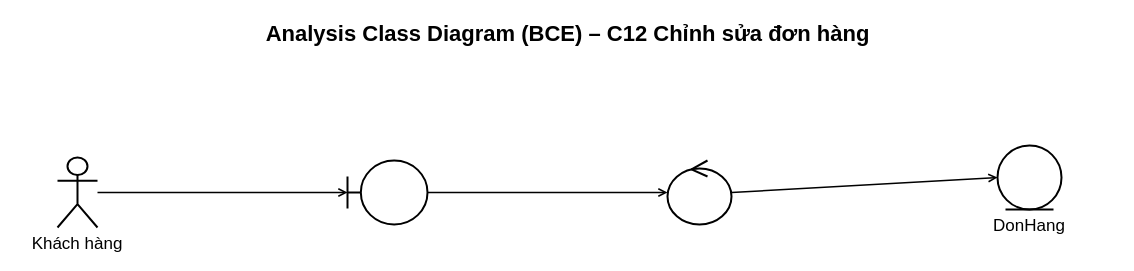
This 1134x271 diagram has some shape labels left out. The centre of each missing label's shape, as x and y in pixels:
ChinhSuaDonHangController: [699,192]
ChinhSuaDonHangPage: [387,192]
